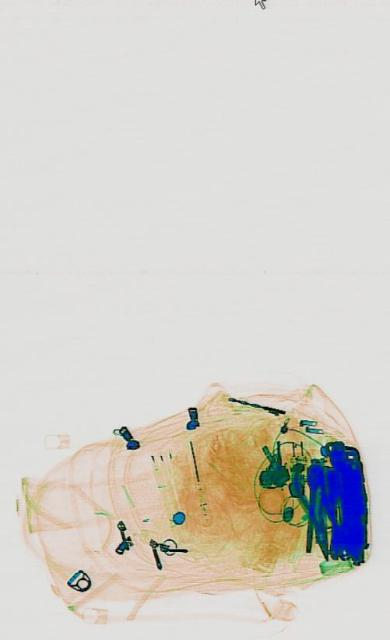Pliers: (288, 456, 341, 568), (298, 462, 339, 554)
